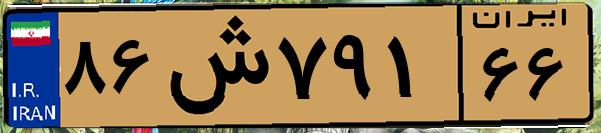1: (385, 28, 445, 110)
6: (475, 38, 525, 113), (525, 38, 570, 115), (110, 28, 158, 98)
7: (270, 28, 330, 110)
8: (57, 26, 110, 100)
9: (330, 28, 385, 110)
ش: (158, 12, 270, 120)
